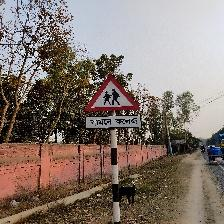College-in-front: (43, 57, 192, 166)
